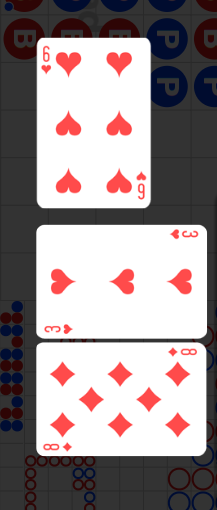3H: (44, 322, 75, 335)
6H: (41, 45, 53, 77)
8D: (42, 441, 75, 452)
